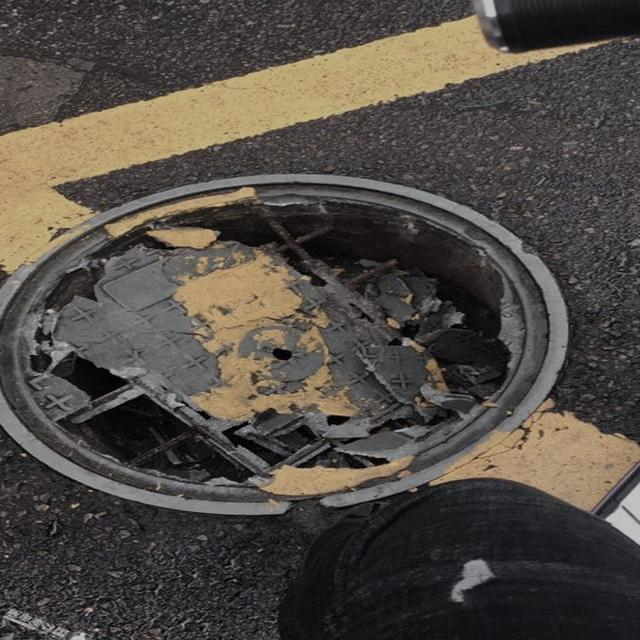broke: (6, 149, 599, 511)
